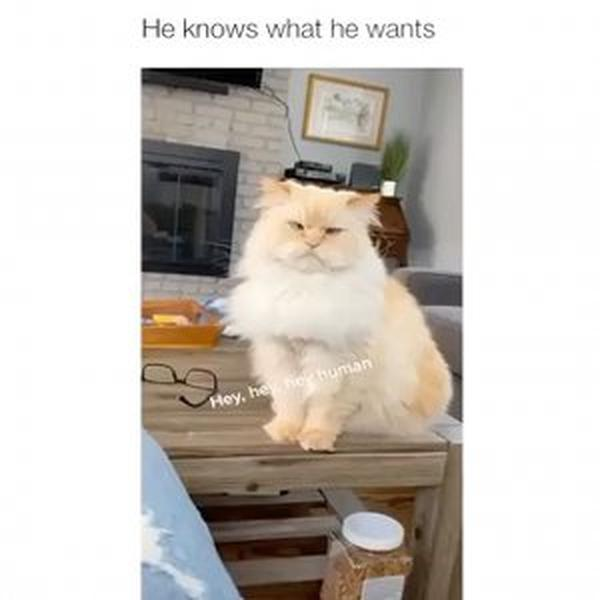michi: (220, 173, 458, 460)
